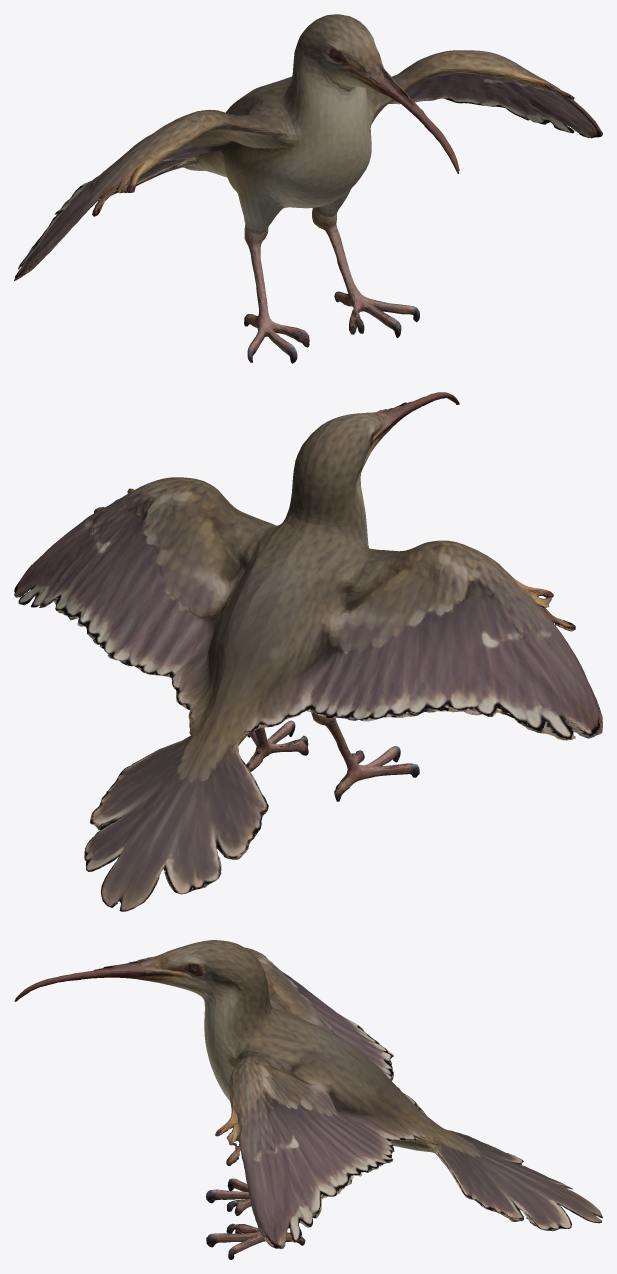
The picture shows the model from 3 angles, top to bottom: view 1: azimuth 30°, elevation 25°; view 2: azimuth 150°, elevation 25°; view 3: azimuth 270°, elevation 25°; orthographic projection. The views are drawn at different scales.
Parts seen in each view (by area): view 1: world; view 2: world; view 3: world.
Boxes of the visible parts, <box> form: world: <box>14,14,602,363</box>; world: <box>14,392,602,911</box>; world: <box>14,940,602,1259</box>.
Size of the model in its own units: 0.9828 by 0.5325 by 0.9956.
Materials: 1 (1 with a texture image).
